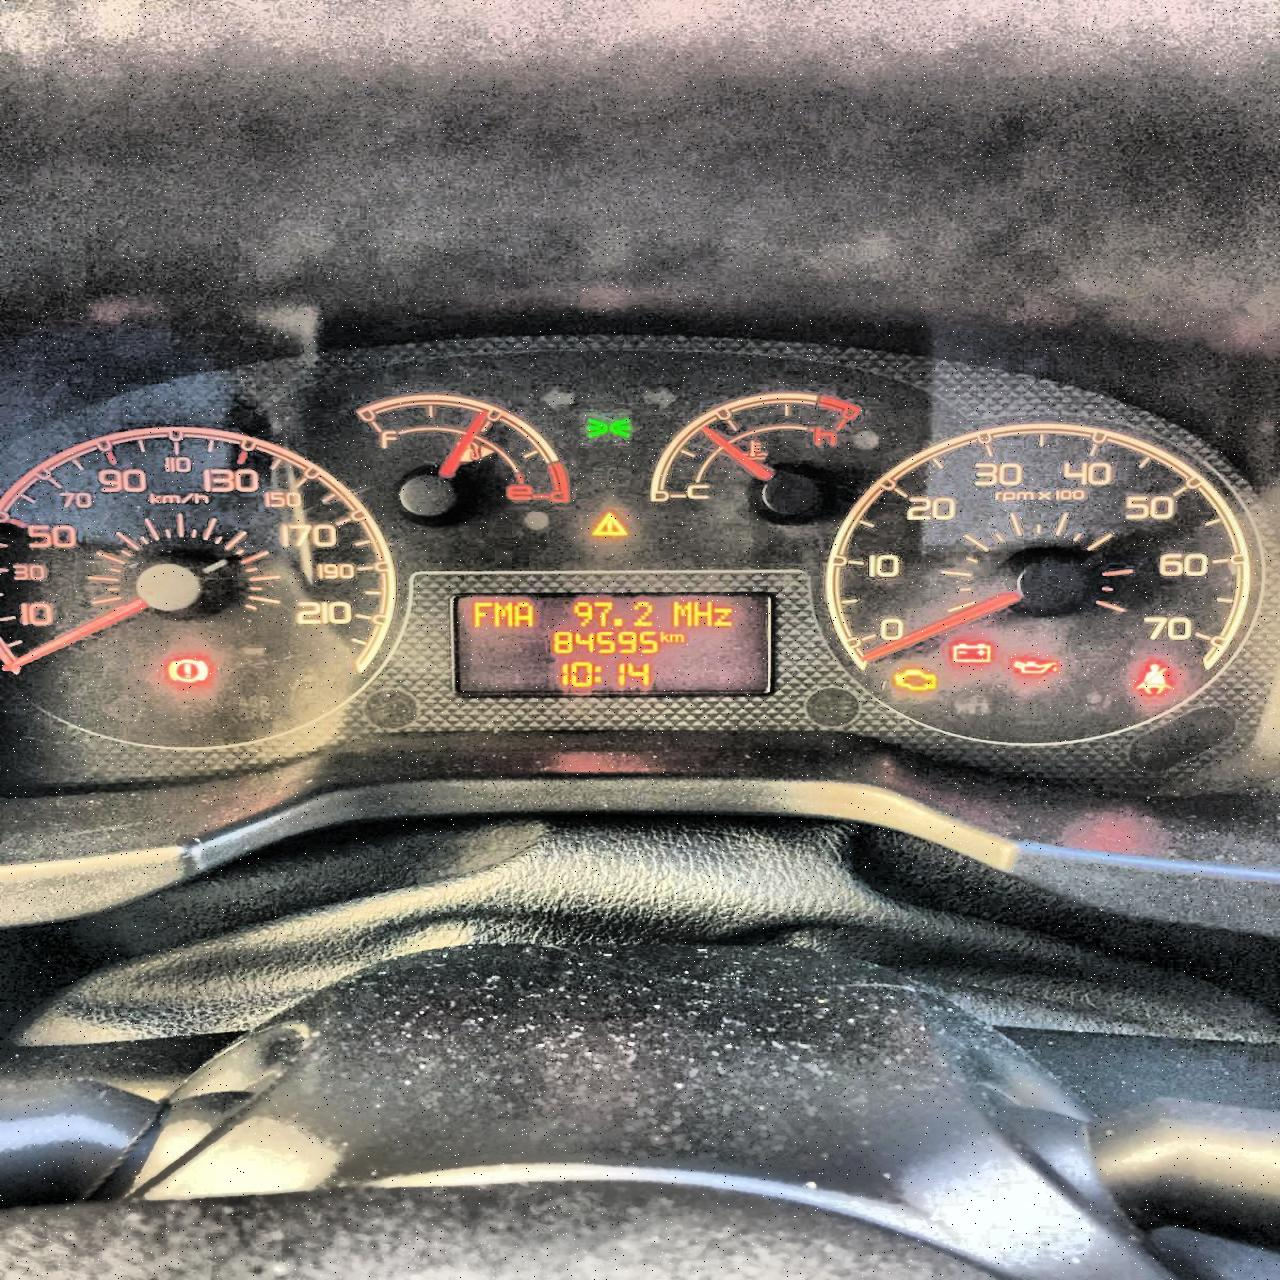-: (612, 617, 622, 628)
0: (570, 661, 593, 687)
1: (559, 661, 568, 687), (615, 661, 625, 686)
2: (631, 599, 654, 626)
4: (625, 660, 651, 686), (573, 631, 595, 654)
5: (639, 629, 656, 653), (597, 629, 613, 654)
7: (592, 599, 612, 626)
8: (551, 629, 572, 654)
9: (615, 628, 636, 654), (572, 600, 591, 627)
X: (670, 600, 693, 628), (470, 600, 491, 627), (492, 601, 513, 628), (694, 599, 713, 628), (515, 600, 532, 629), (713, 606, 734, 626), (658, 629, 670, 644), (670, 632, 685, 644), (594, 665, 601, 682)
odometer: (456, 583, 779, 703)
